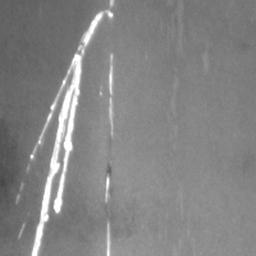Bright scratch: (28, 9, 115, 256), (109, 54, 115, 124), (105, 175, 111, 205), (106, 223, 111, 256)
